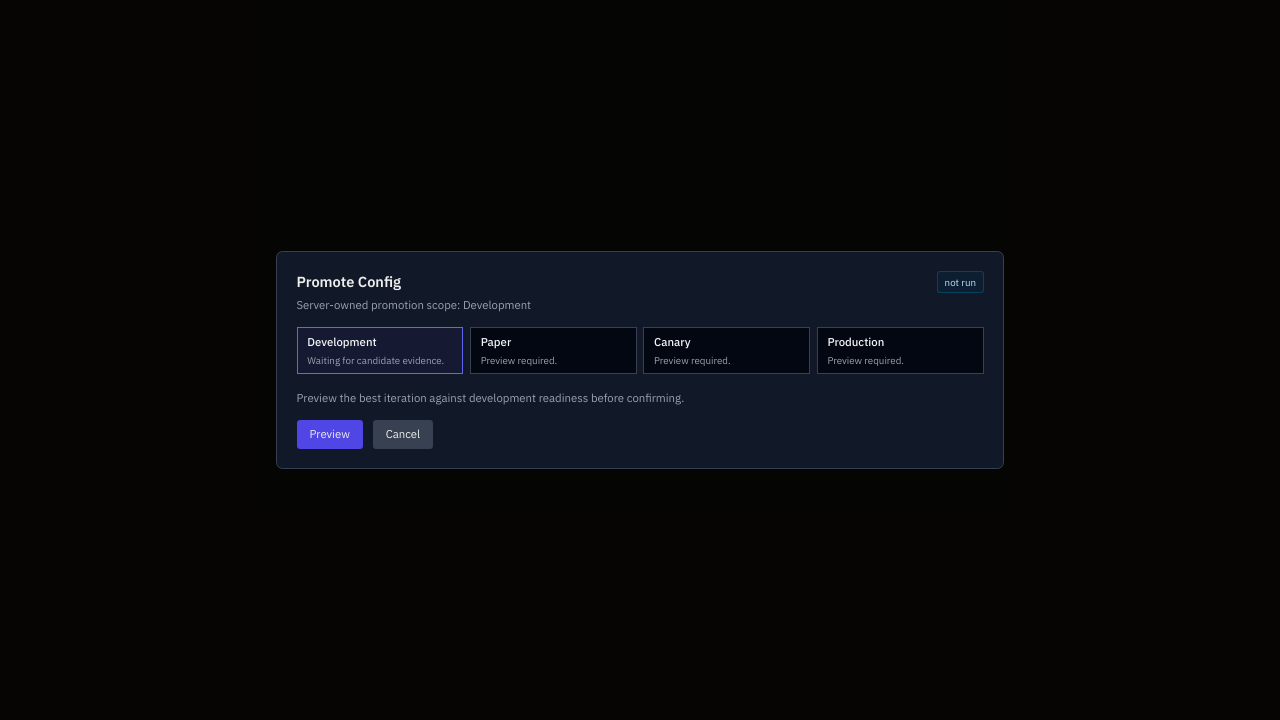
Test: PromotionModal target_kind branching (P3-026) › shows the registry API target label when target_kind = registry_api
Click the button "Preview". click: click(330, 434)
box: [296,420,363,449]
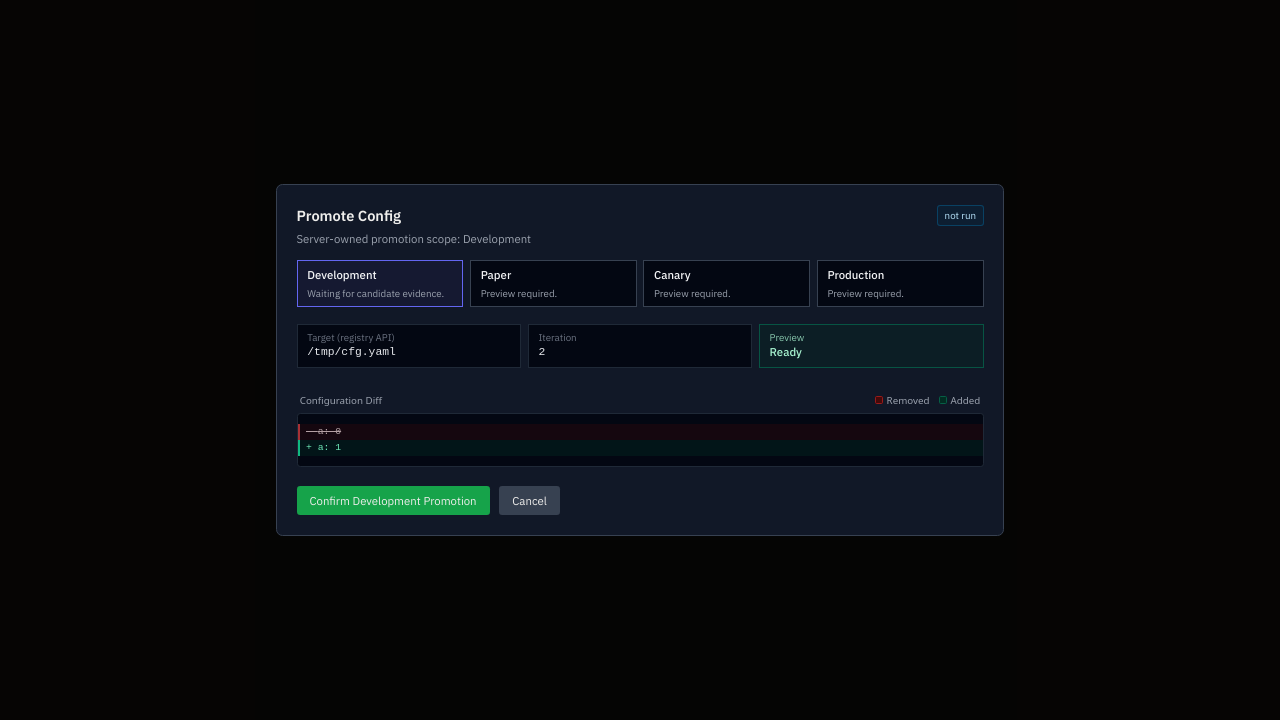
Expected: the text "Target (registry API)" is shown, [307,331,395,344]
